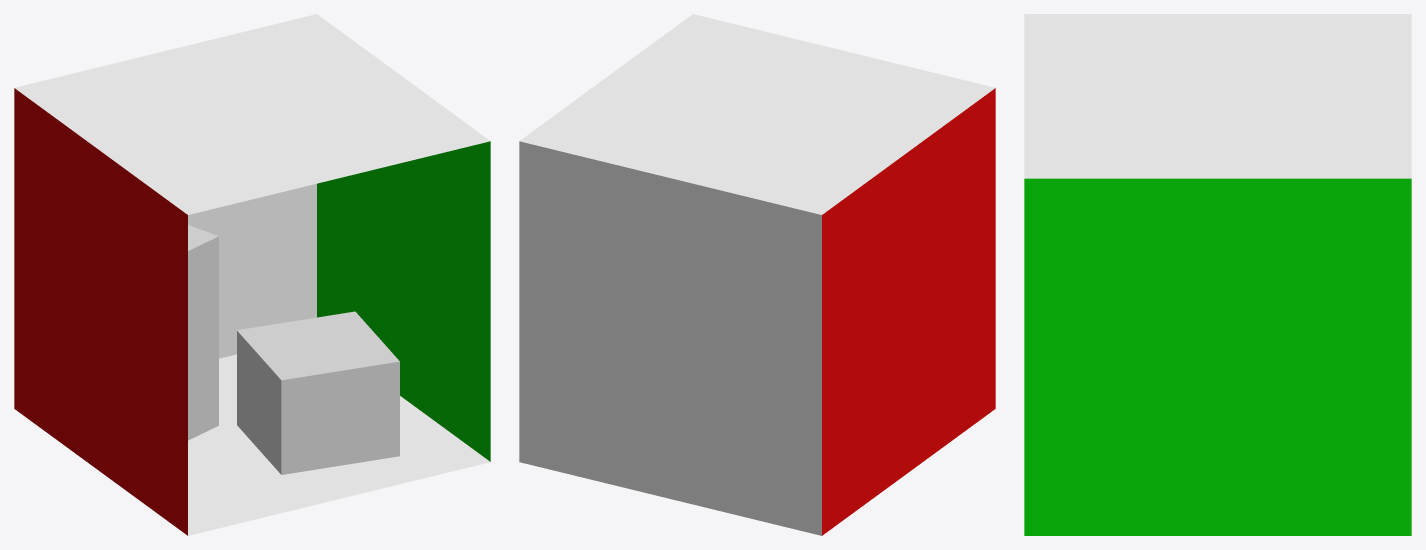
3 renders of one model, left to right at view 1: azimuth 30°, elevation 25°; view 2: azimuth 150°, elevation 25°; view 3: azimuth 270°, elevation 25°, orthographic. The views are drawn at different scales.
Parts seen in each view (by area): view 1: Box002, Box004, Box003; view 2: Box002; view 3: Box002.
Part boxes in pixels (x1,y1,x2,y2): Box002: (14, 14, 490, 535); Box004: (237, 311, 399, 474); Box003: (188, 225, 218, 440); Box002: (519, 14, 995, 535); Box002: (1024, 14, 1411, 535).
Size of the model in its own units: 5.52 by 5.59 by 5.49.
